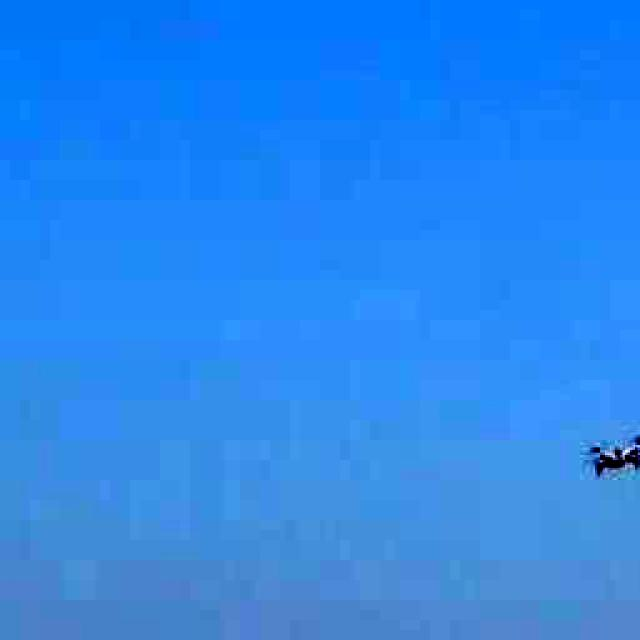bird: (564, 401, 640, 499)
